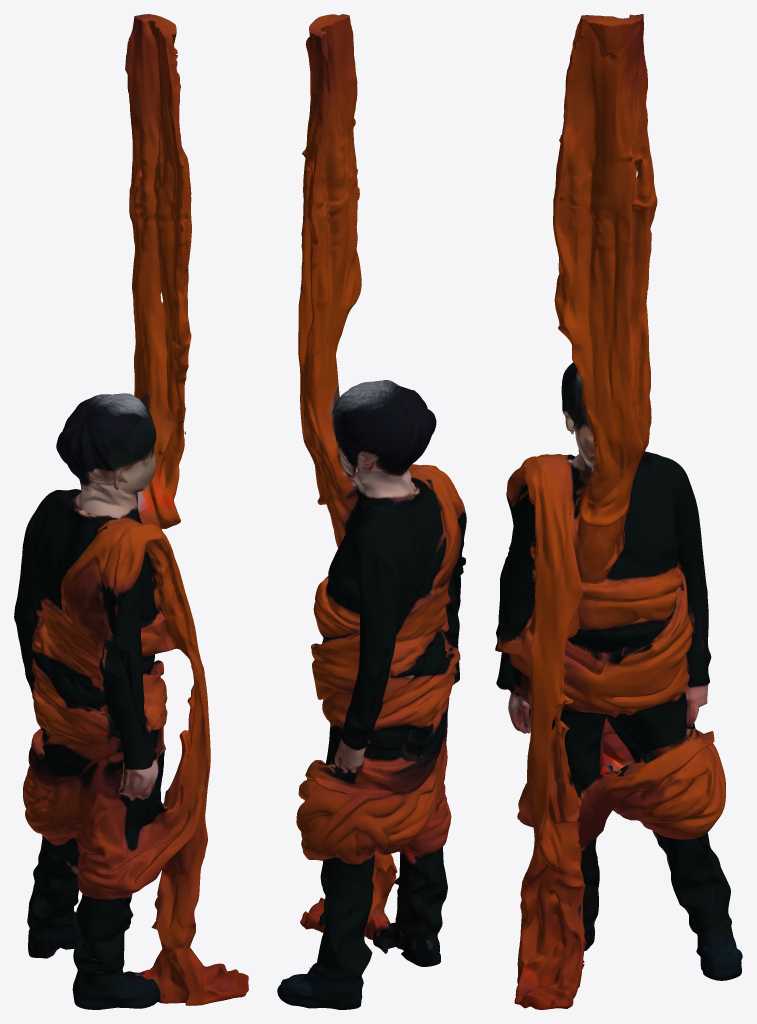
File: orange+wrapped+person+3d+model.fbx
3 renders of one model, left to right at view 1: azimuth 30°, elevation 25°; view 2: azimuth 150°, elevation 25°; view 3: azimuth 270°, elevation 25°, orthographic. The views are drawn at different scales.
Parts seen in each view (by area): view 1: tripo_node_3e84387d; view 2: tripo_node_3e84387d; view 3: tripo_node_3e84387d.
Part boxes in pixels (left/top/right/bottom): tripo_node_3e84387d: left=14, top=14, right=248, bottom=1009; tripo_node_3e84387d: left=277, top=14, right=466, bottom=1009; tripo_node_3e84387d: left=495, top=14, right=742, bottom=1009.
Size of the model in its own units: 18.32 by 23.15 by 100.
1 material, 1 textured.
